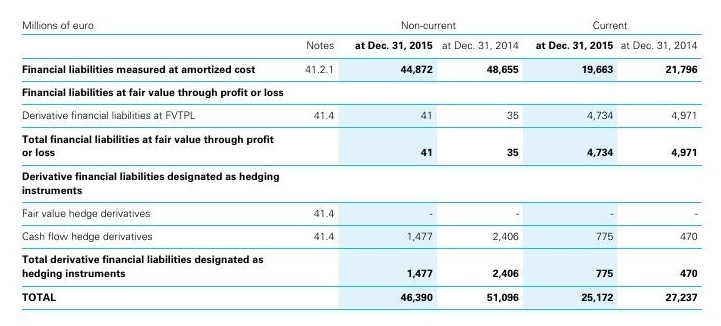table: (0, 0, 721, 326)
